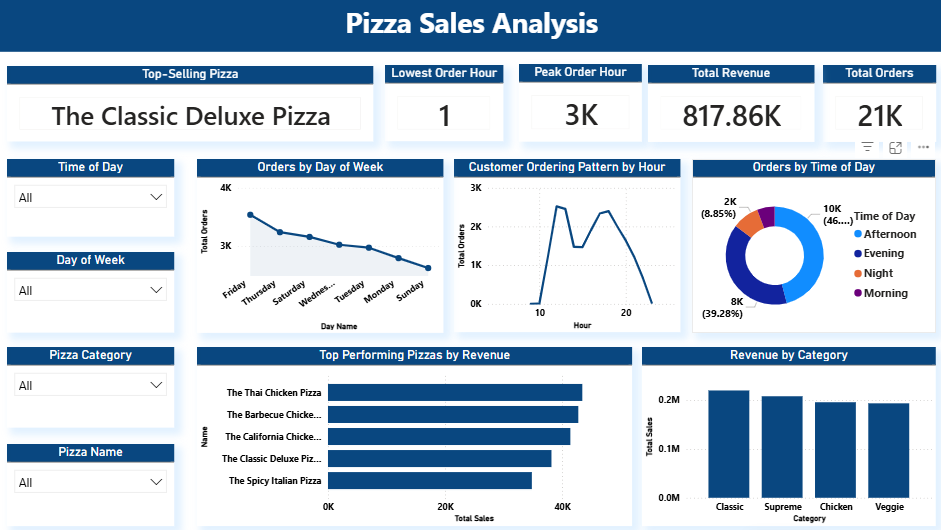

The page's visual inventory and layout, read from the dashboard file:
{"tool":"powerbi","page":{"name":"Page 1","canvas":[1280,720],"ordinal":0},"visuals":[{"type":"cardVisual","title":"Total Orders","fields":{"Data":["orders.Total Orders"]},"box":[1114.5,87.7,152.8,103.6],"z":0},{"type":"cardVisual","title":"Lowest Order Hour","fields":{"Data":["orders.Lowest Order Hour"]},"box":[523,88.1,159.7,103.2],"z":1000},{"type":"cardVisual","title":"Peak Order Hour","fields":{"Data":["orders.Peak Order Hour"]},"box":[704.1,86.3,166.1,104.9],"z":2000},{"type":"lineChart","title":"Customer Ordering Pattern by Hour","fields":{"Y":["orders.Total Orders"],"Category":["orders.Hour"]},"box":[616.4,215.2,305.5,233.8],"z":3000},{"type":"areaChart","title":"Orders by Day of Week","fields":{"Category":["orders.Day Name"],"Y":["orders.Total Orders"]},"box":[268.3,215.2,333.4,235.1],"z":4000},{"type":"cardVisual","title":"Total Revenue","fields":{"Data":["orders.Total Sales"]},"box":[878.1,87.7,224.5,103.6],"z":5000},{"type":"cardVisual","title":"Top-Selling Pizza","fields":{"Data":["orders.Most Ordered Pizza"]},"box":[12,89,495.5,102.3],"z":6000},{"type":"clusteredBarChart","title":"Top Performing Pizzas by Revenue","fields":{"Category":["pizza_types.name"],"Y":["orders.Total Sales"]},"box":[268.3,468.9,588.5,241.8],"z":7000},{"type":"columnChart","title":"Revenue by Category","fields":{"Category":["pizza_types.category"],"Y":["orders.Total Sales"]},"box":[870.1,468.9,397.2,241.8],"z":8000},{"type":"donutChart","title":"Orders by Time of Day","fields":{"Category":["orders.Time of Day"],"Y":["orders.Total Orders"]},"box":[937.9,215.2,329.4,235.1],"z":9000},{"type":"slicer","title":"Time of Day","fields":{"Values":["orders.Time of Day"]},"box":[12,215.1,225.6,104.6],"z":10000},{"type":"slicer","title":"Pizza Category","fields":{"Values":["pizza_types.category"]},"box":[12,469,225.6,109],"z":11000},{"type":"slicer","title":"Pizza Name","fields":{"Values":["pizza_types.name"]},"box":[12,600.5,225.6,110.5],"z":12000},{"type":"slicer","title":"Day of Week","fields":{"Values":["orders.Day Name"]},"box":[12,340.6,225.6,109],"z":13000},{"type":"textbox","box":[0,0,1280.2,70.2],"z":14000}]}

Visuals, with their boxes in screenshot pixels (x1, y1, x2, y2), scaled from the page's 1280x720 canvas onto the 941x530 screenshot:
"Total Orders" cardVisual: detection(819, 65, 932, 141)
"Lowest Order Hour" cardVisual: detection(384, 65, 502, 141)
"Peak Order Hour" cardVisual: detection(518, 64, 640, 141)
"Customer Ordering Pattern by Hour" lineChart: detection(453, 158, 678, 331)
"Orders by Day of Week" areaChart: detection(197, 158, 442, 331)
"Total Revenue" cardVisual: detection(646, 65, 811, 141)
"Top-Selling Pizza" cardVisual: detection(9, 66, 373, 141)
"Top Performing Pizzas by Revenue" clusteredBarChart: detection(197, 345, 630, 523)
"Revenue by Category" columnChart: detection(640, 345, 932, 523)
"Orders by Time of Day" donutChart: detection(690, 158, 932, 331)
"Time of Day" slicer: detection(9, 158, 175, 235)
"Pizza Category" slicer: detection(9, 345, 175, 425)
"Pizza Name" slicer: detection(9, 442, 175, 523)
"Day of Week" slicer: detection(9, 251, 175, 331)
textbox: detection(0, 0, 940, 52)
